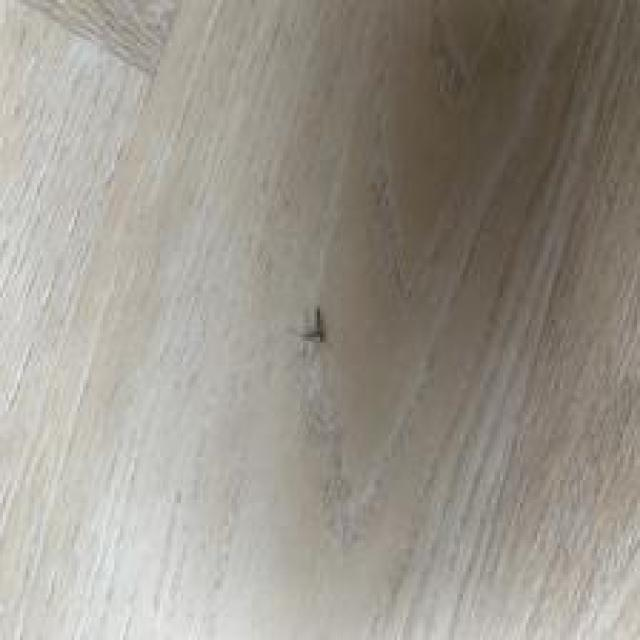Culex: (299, 306, 327, 343)
